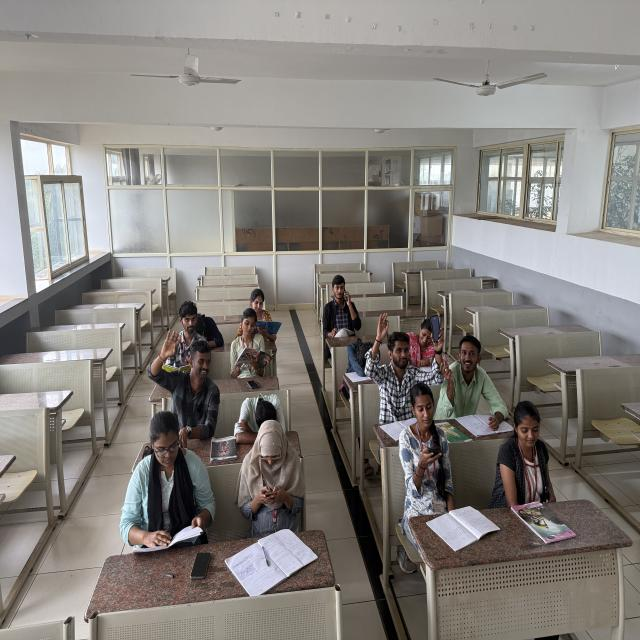Hand Rising: (148, 324, 216, 428), (364, 306, 413, 418)
Reading: (157, 299, 207, 376), (229, 306, 273, 375), (246, 287, 284, 345)
Sleeping: (119, 408, 215, 548), (230, 390, 290, 444), (343, 337, 382, 380), (192, 306, 226, 351)
Using Phone: (394, 376, 456, 514), (232, 416, 307, 525), (320, 273, 359, 334)
